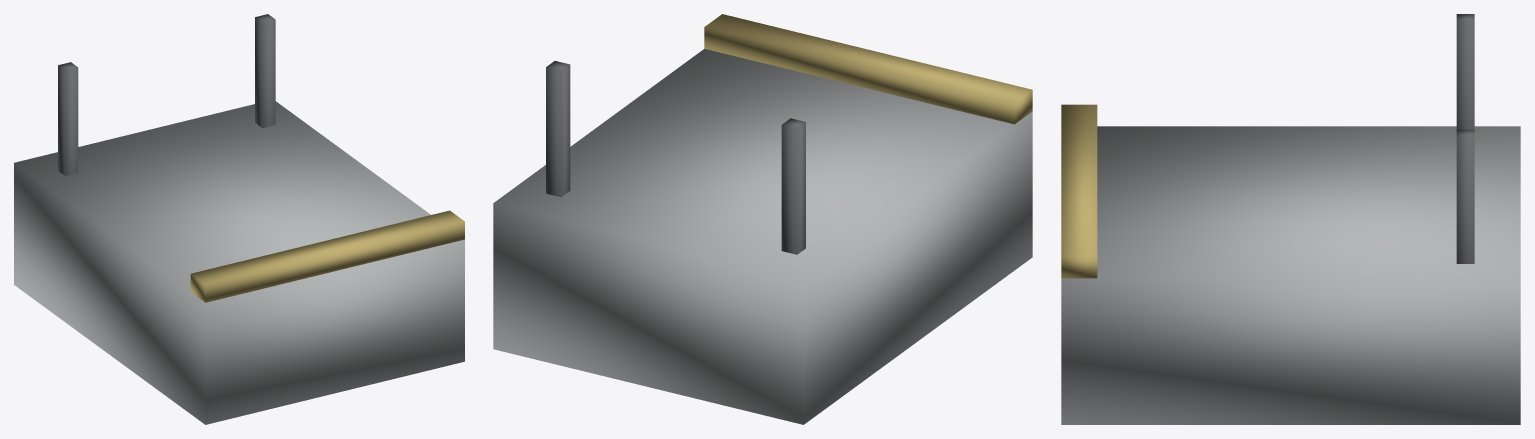
The model's file is loading_dock_18.glb.
The picture shows the model from 3 angles, left to right: view 1: azimuth 30°, elevation 25°; view 2: azimuth 150°, elevation 25°; view 3: azimuth 270°, elevation 25°; orthographic projection. The views are drawn at different scales.
Visible parts, largest first — view 1: world; view 2: world; view 3: world.
Boxes of the visible parts, x1,y1,x2,y2 form: world: (14, 14, 464, 424); world: (493, 14, 1032, 424); world: (1061, 14, 1520, 424).
Size of the model in its own units: 1.8 by 1.51 by 2.3.
